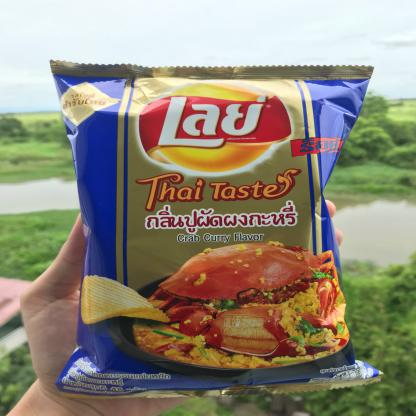potatochip: (39, 54, 387, 399)
